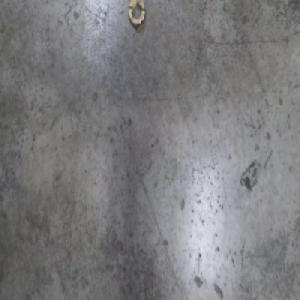Nut: (127, 0, 145, 31)
